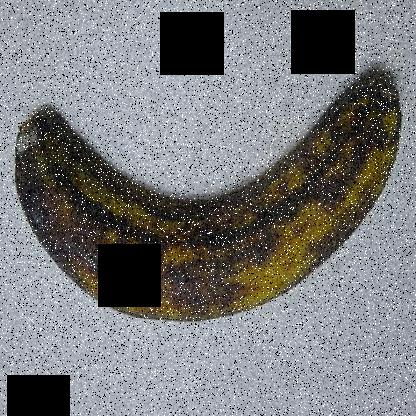overripe: (8, 64, 407, 340)
rotten: (0, 107, 68, 218)
